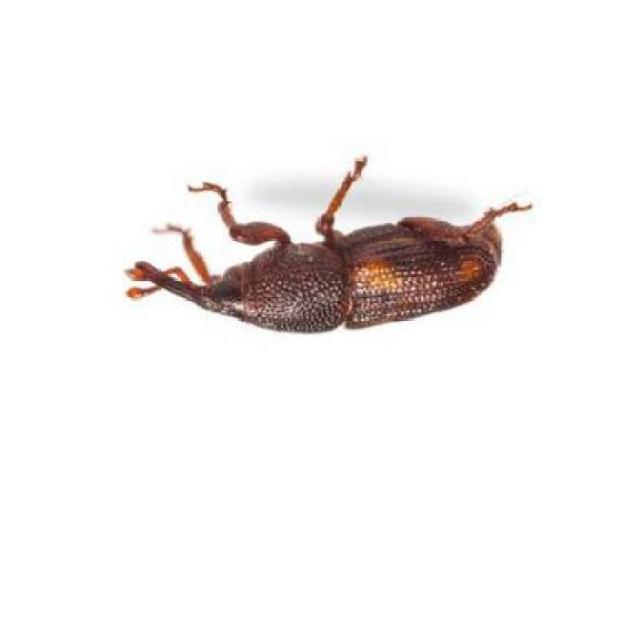rice-bug: (139, 168, 523, 343)
